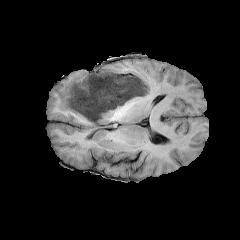glioma: (59, 72, 150, 126)
